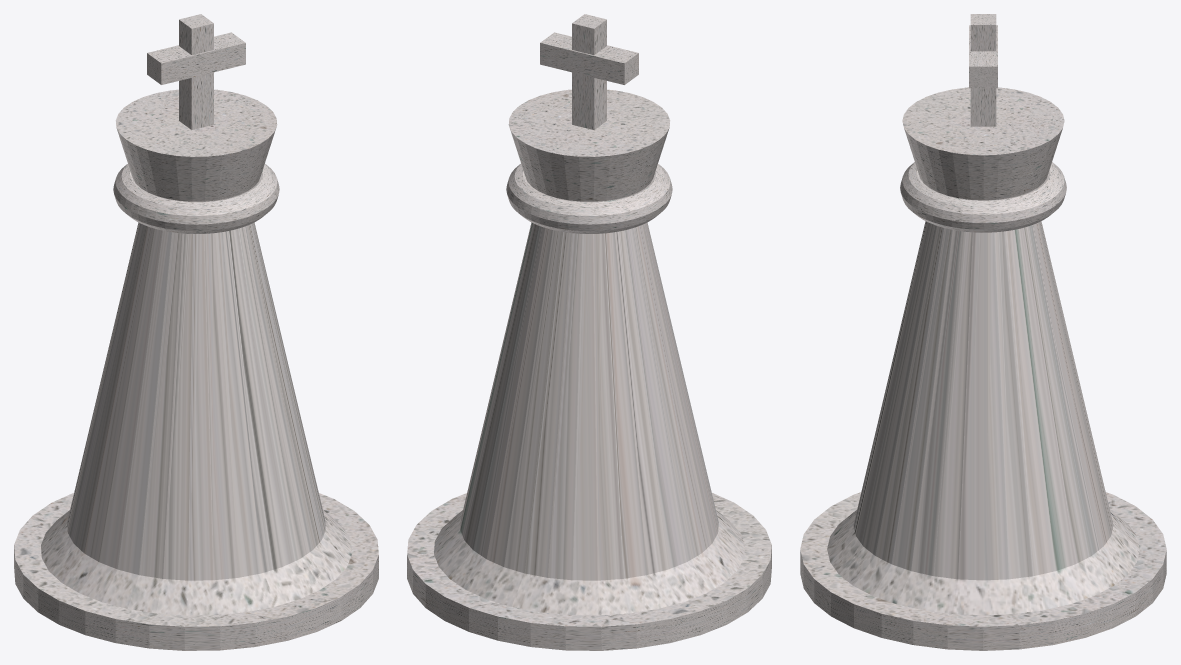
File: WhiteKing.fbx
3 views of the same model, side by side, from view 1: azimuth 30°, elevation 25°; view 2: azimuth 150°, elevation 25°; view 3: azimuth 270°, elevation 25° (orthographic).
Parts seen in each view (by area): view 1: Cylinder; view 2: Cylinder; view 3: Cylinder.
Part boxes in pixels (x1=…): Cylinder: x1=14, y1=14, x2=378, y2=650; Cylinder: x1=407, y1=14, x2=771, y2=650; Cylinder: x1=800, y1=14, x2=1166, y2=650.
Size of the model in its own units: 200 by 334 by 200.
